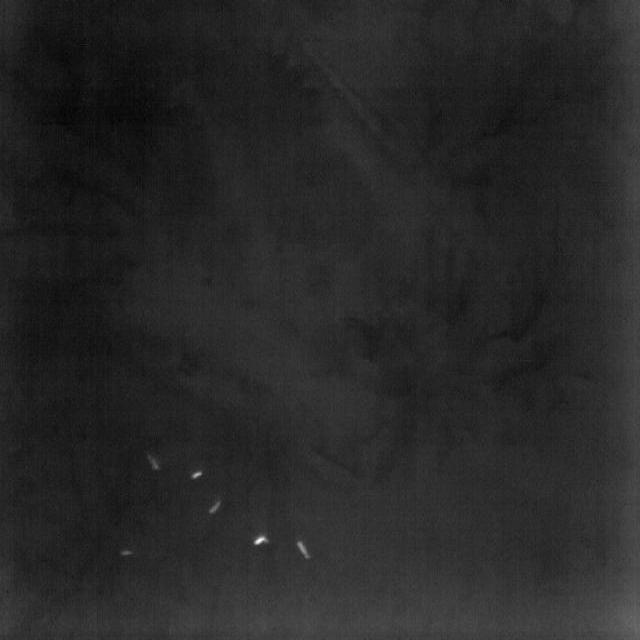deer: (146, 451, 162, 471), (296, 540, 312, 560), (253, 534, 270, 546), (209, 500, 221, 514), (189, 472, 204, 479), (120, 550, 134, 557)
